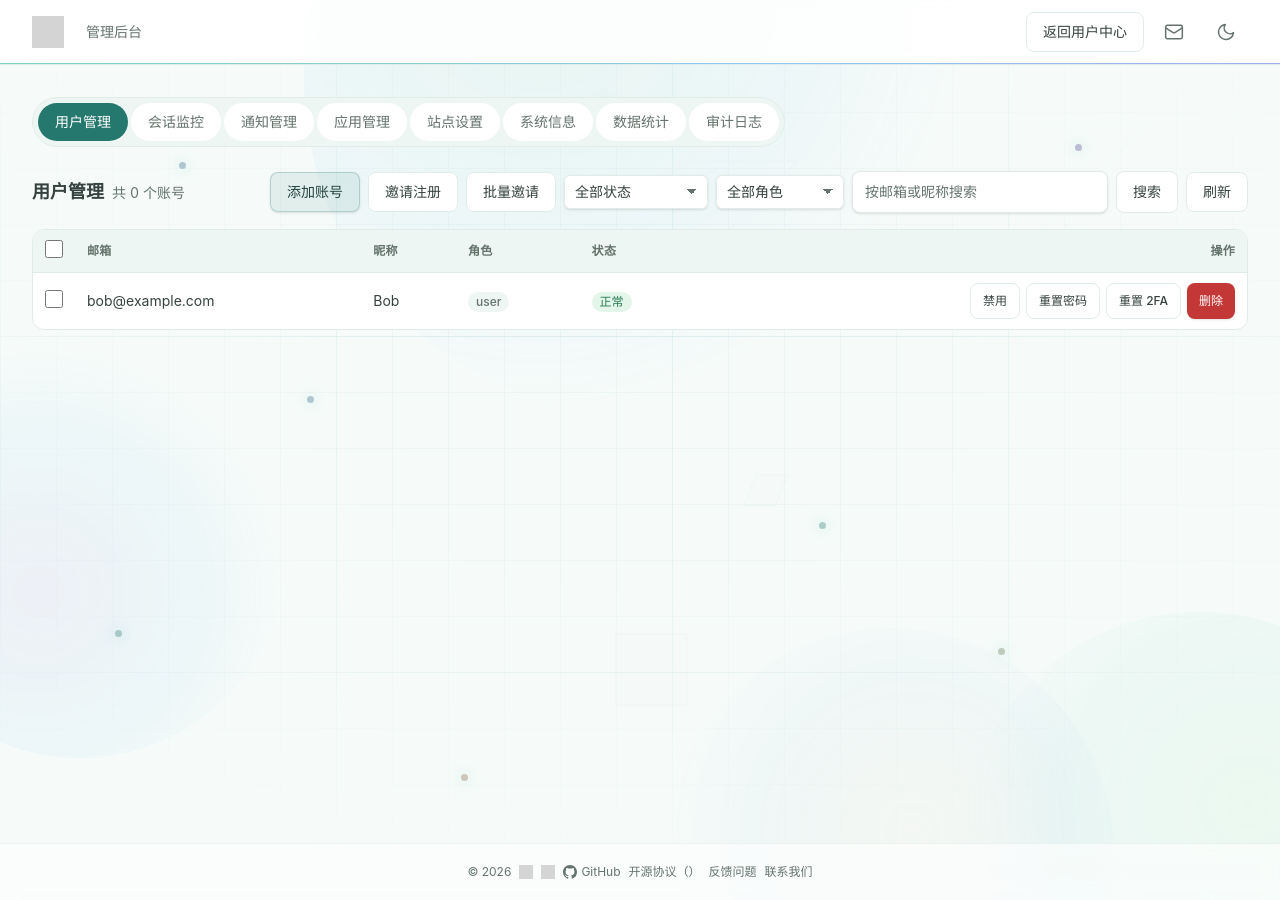
Test: AdminPage › 重置密码通过内联表单提交
Check: the text "bob@example.com" is shown, box [75, 272, 361, 329]
Click the button "重置密码" at (1063, 301), box [1026, 283, 1100, 319]
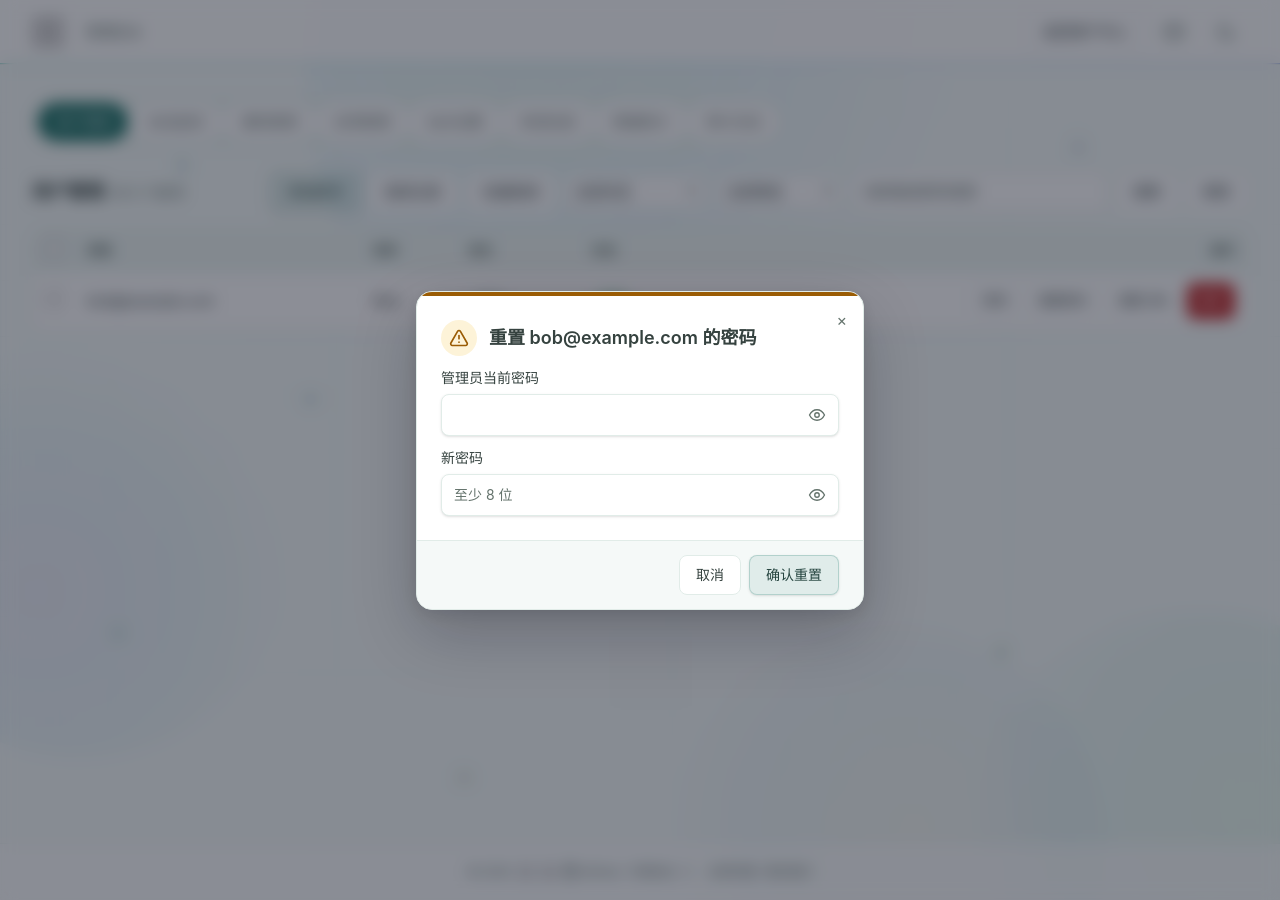
Type "adminpass" into the password field labelled "管理员当前密码" at (640, 414), box [441, 394, 839, 436]
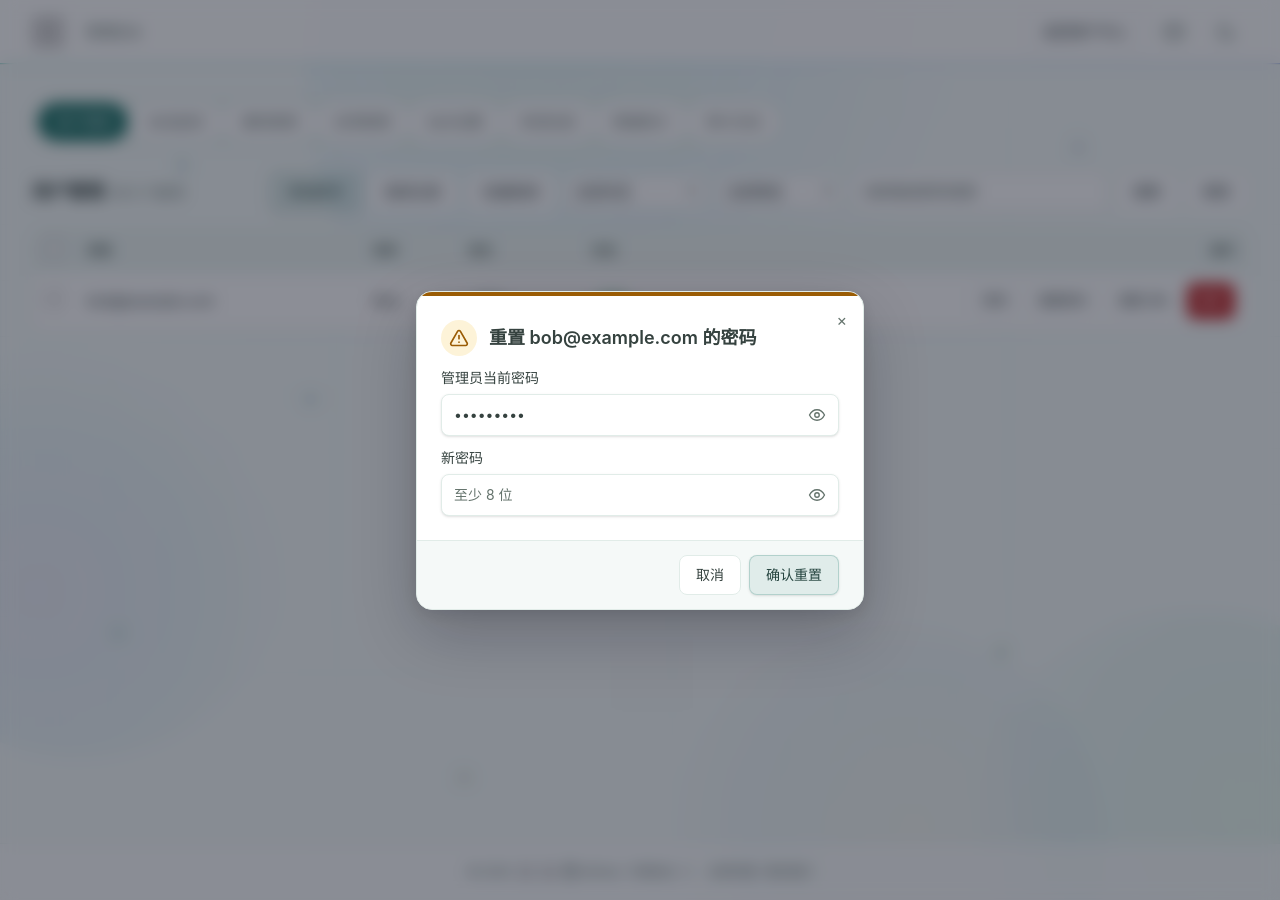
Type "newpassword456" into the password field with placeholder "至少 8 位" at (640, 494), box [441, 474, 839, 516]
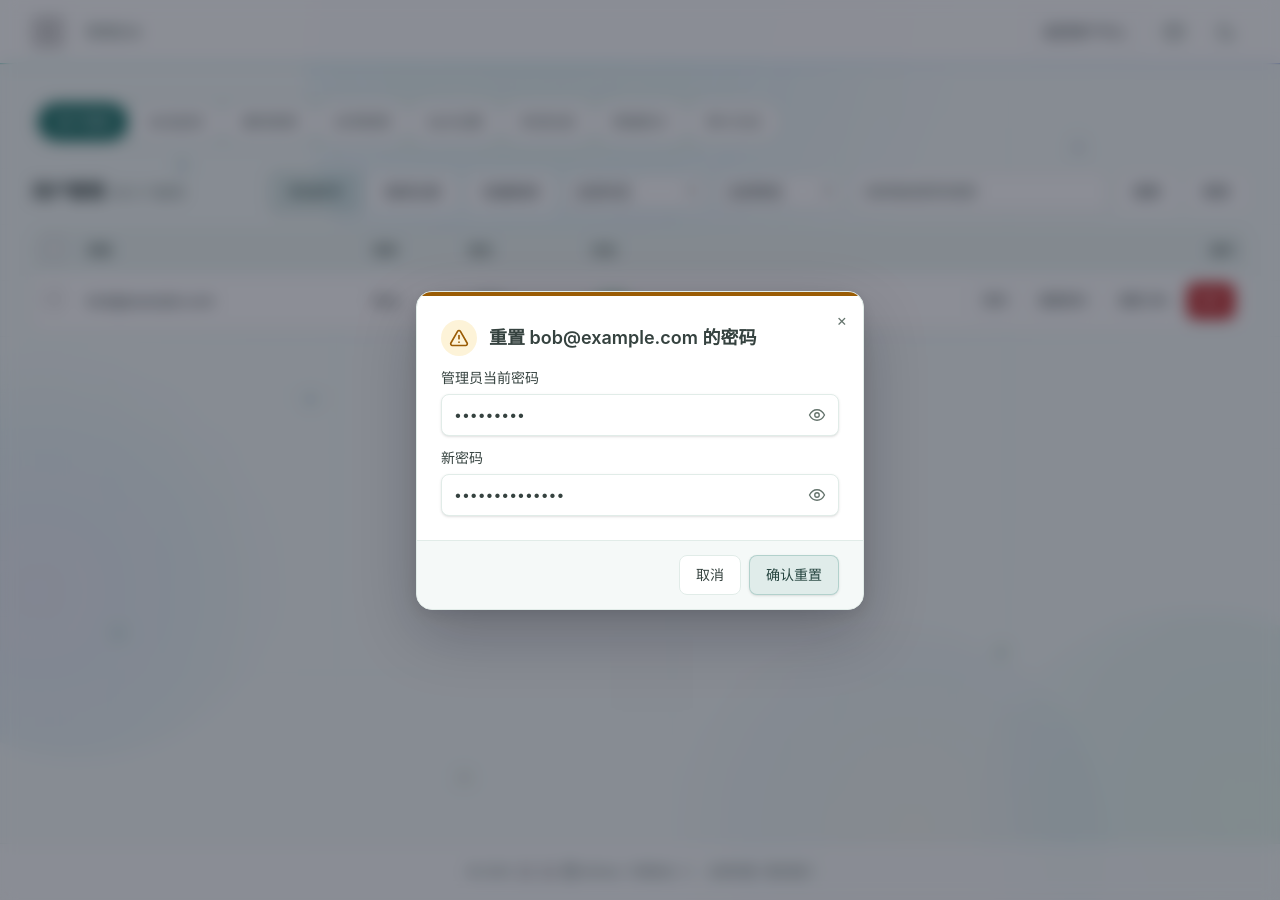
Click the button "确认重置" at (794, 574), box [749, 554, 839, 594]
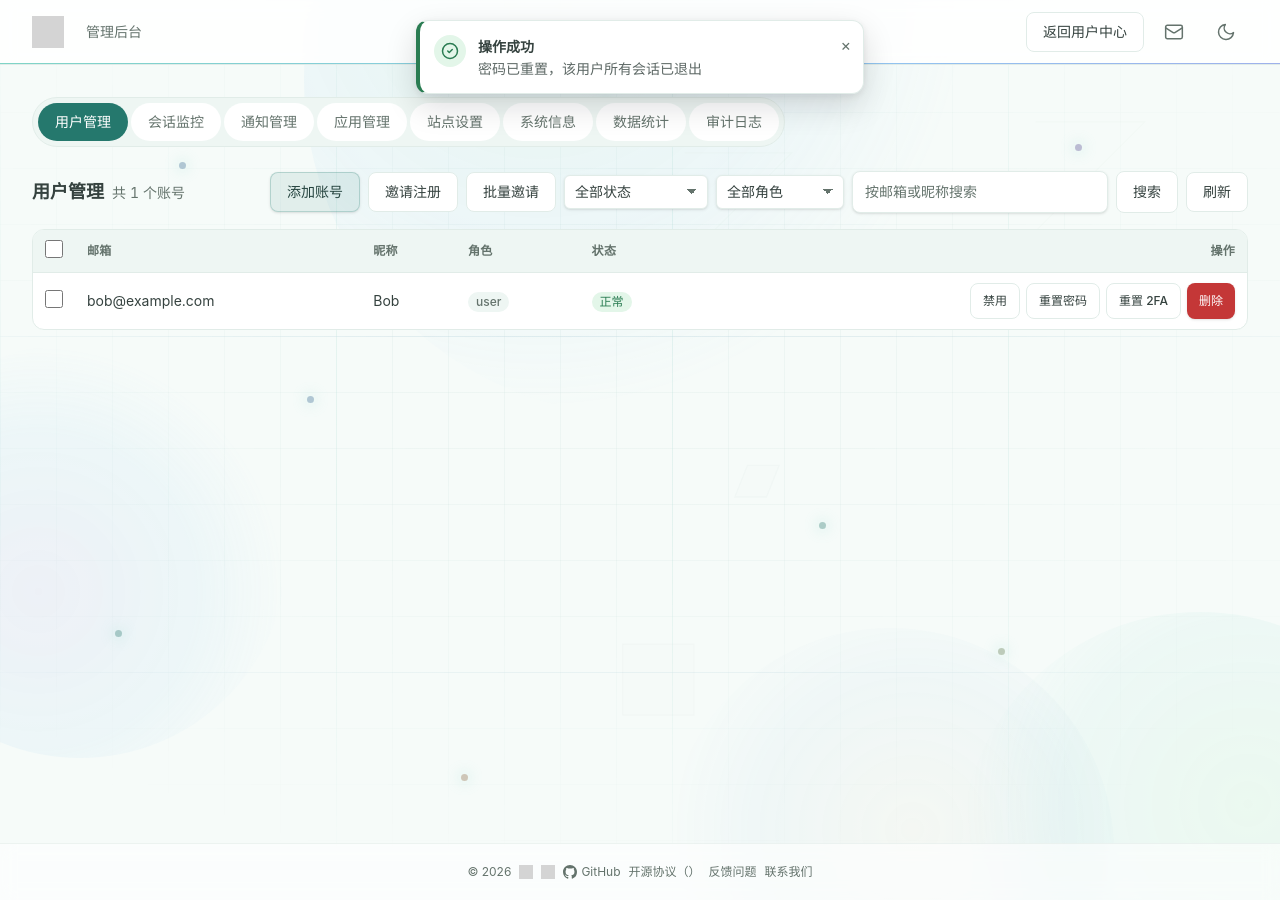
Check: the text "密码已重置，该用户所有会话已退出" is shown, box [478, 60, 702, 77]
